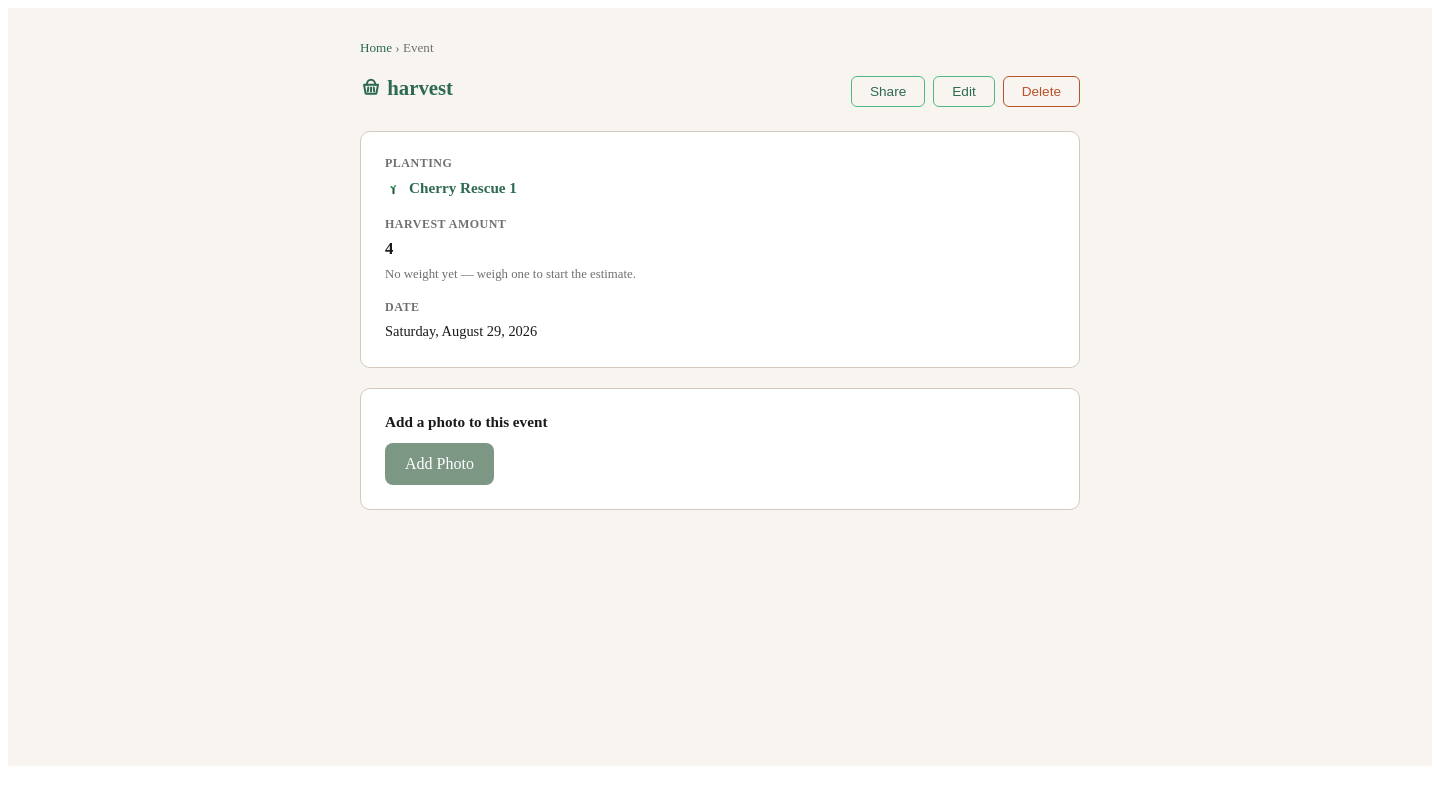
Test case: the re-anchor control › untouched form — saves with no anchor keys and asks nothing
This screenshot has width=1440, height=810.
Click the button "Edit": click(964, 92) [933, 76, 995, 107]
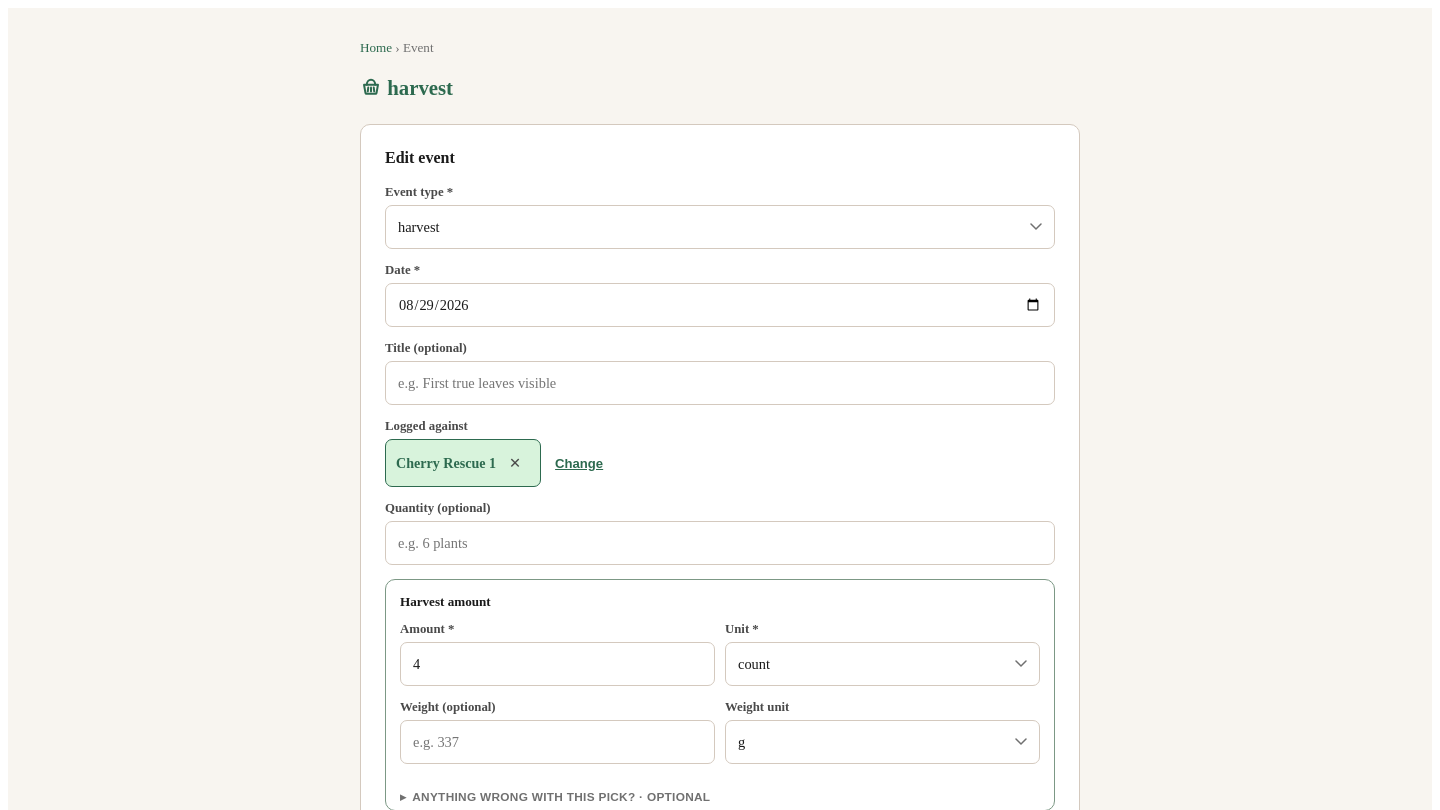
In the field labelled "Title (optional)": (720, 383) [385, 361, 1055, 405], type "first pick"
(page scrolled)
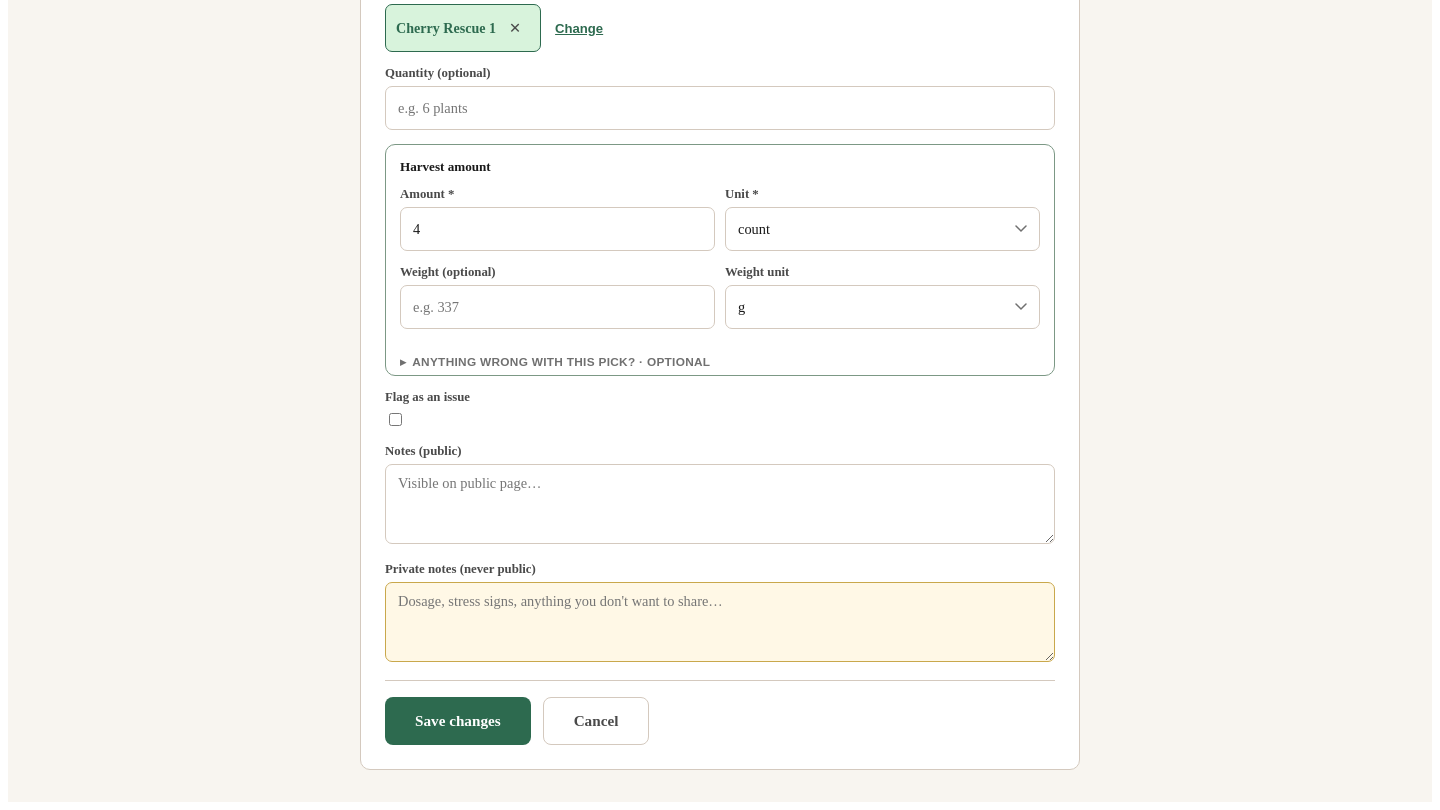
Click the button "Save changes": click(458, 721) [385, 697, 531, 745]
(page scrolled)
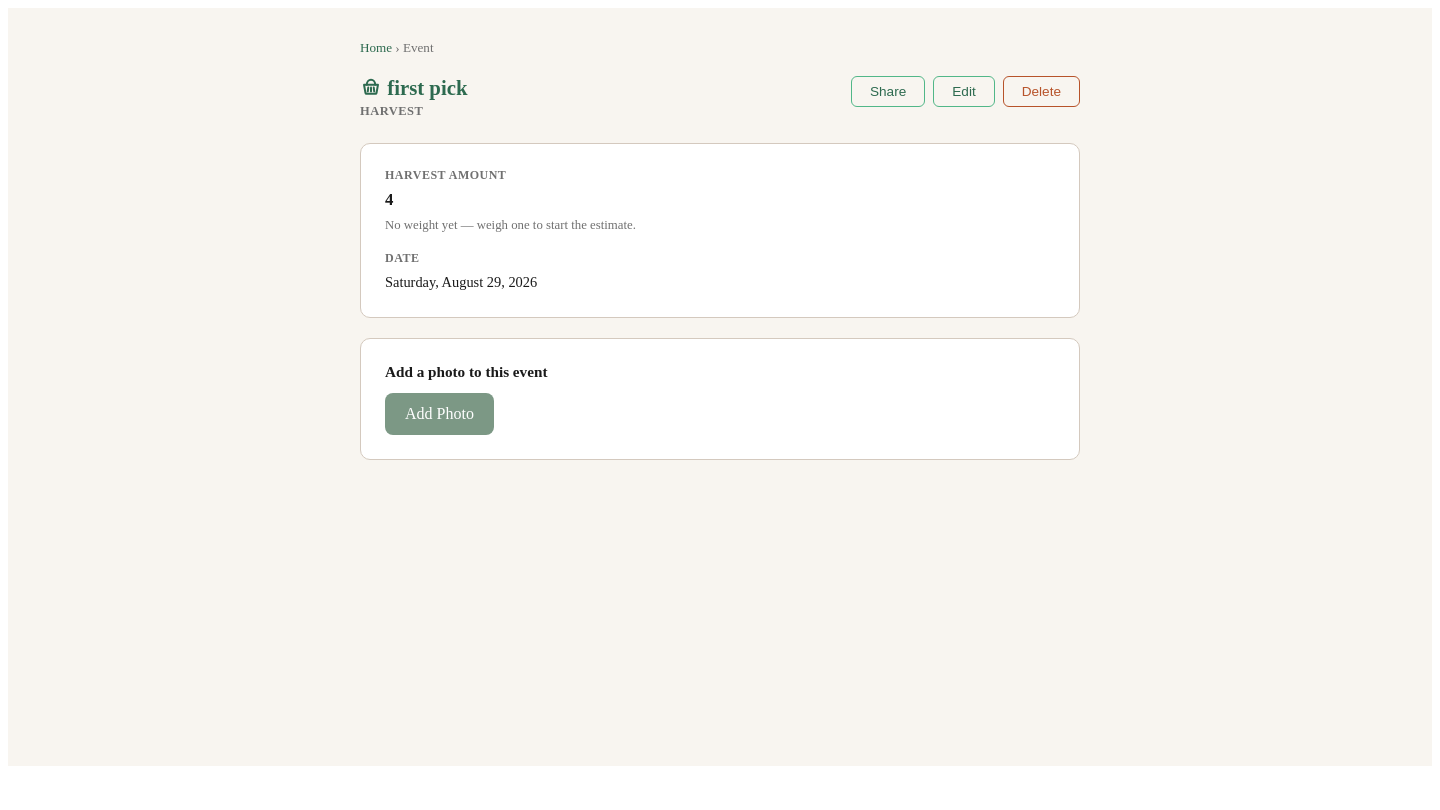
Result: the element showing "first pick" is shown at [360, 76, 468, 100]
